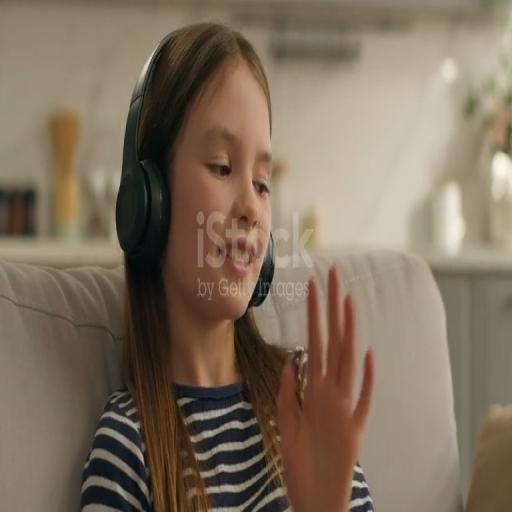earphone: (114, 8, 285, 302)
